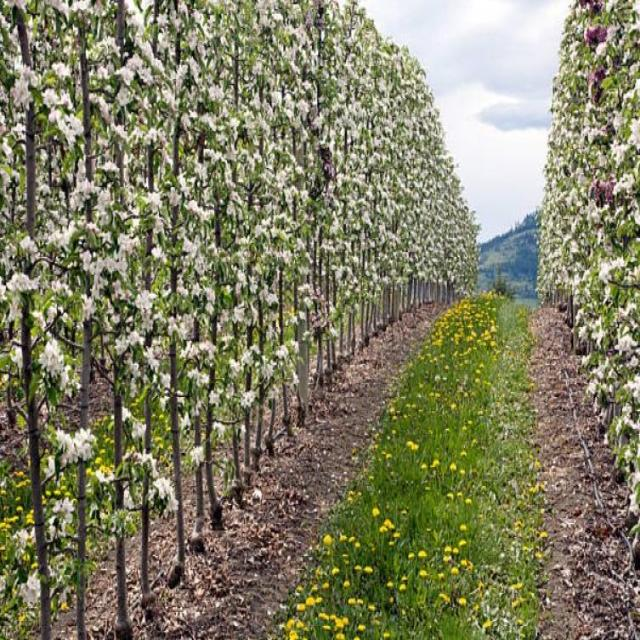row: (164, 282, 613, 640)
